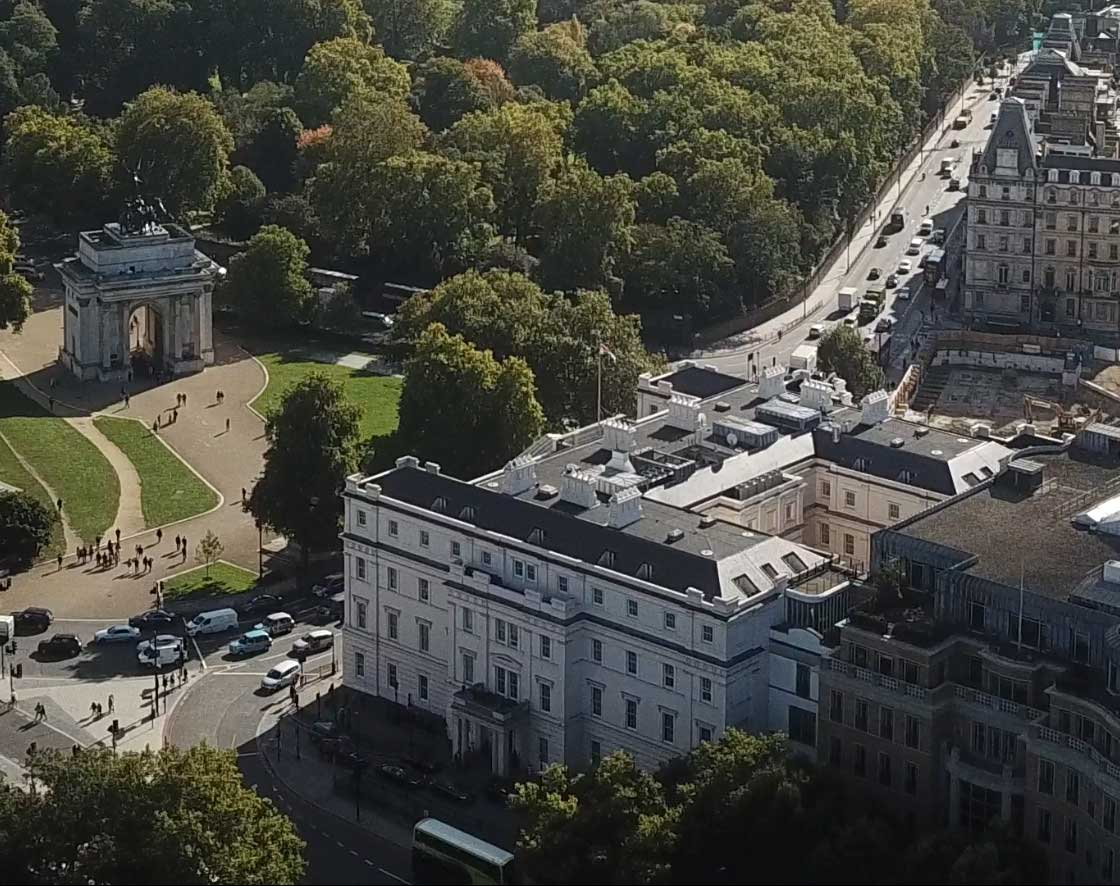building: (325, 453, 981, 799), (40, 200, 242, 404), (969, 61, 1120, 327)
car: (253, 658, 310, 697), (86, 618, 149, 652), (30, 632, 93, 666), (185, 605, 239, 639), (284, 629, 339, 659)
trees: (88, 4, 912, 268)
